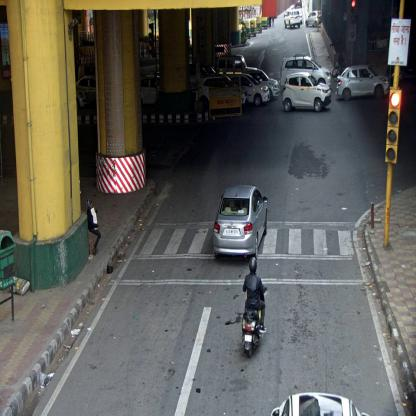car: (213, 186, 267, 260), (197, 73, 249, 112), (282, 73, 330, 113), (280, 53, 332, 89), (335, 66, 389, 98), (233, 72, 270, 106), (284, 10, 301, 30), (306, 10, 320, 29)
motorcycle: (242, 255, 268, 358)
